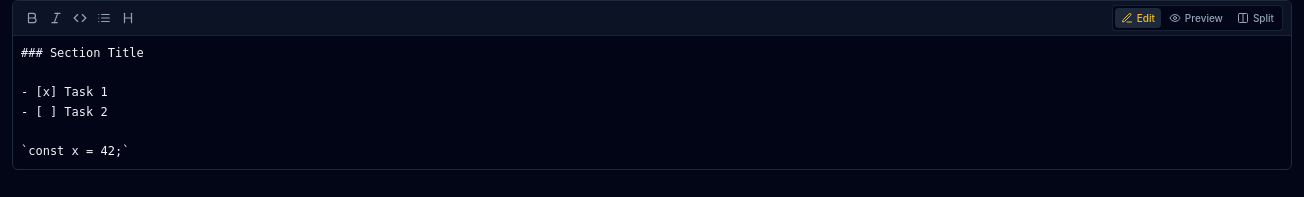
Test case: Milestone 4 Challenger 2: Adversarial Stress Test Suite › Markdown Input Isolation & Keyboard Shortcut Bypass › safely switches between Edit, Preview, and Split modes without losing content or throwing
// Switch to Preview
Click the button with test id "md-mode-preview".
click(1196, 18)  # box [1163,8,1229,28]
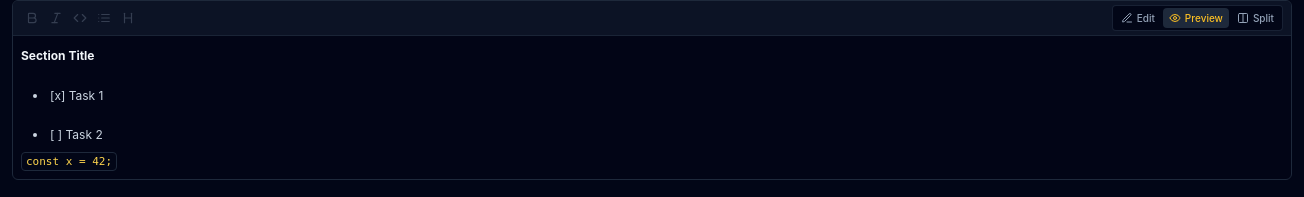
Now the element with test id "markdown-preview" is shown
Now the text box with test id "note-textarea-ann-modes-1" is gone
// Click preview to return to edit mode
Click the element with test id "markdown-preview".
click(58, 56)  # box [21,48,117,171]
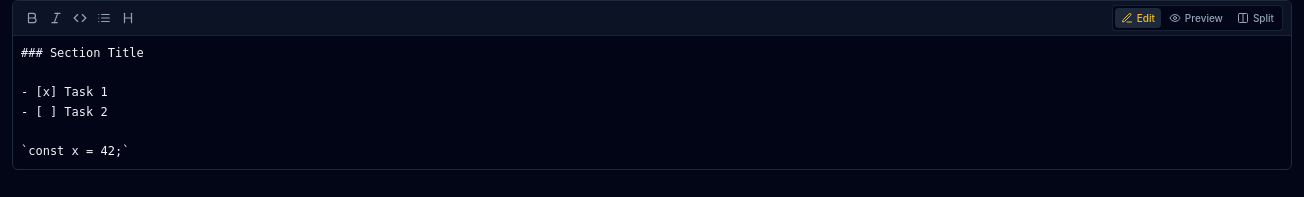
Now the text box with test id "note-textarea-ann-modes-1" is shown
// Switch to Split mode
Click the button with test id "md-mode-split".
click(1255, 18)  # box [1231,8,1280,28]
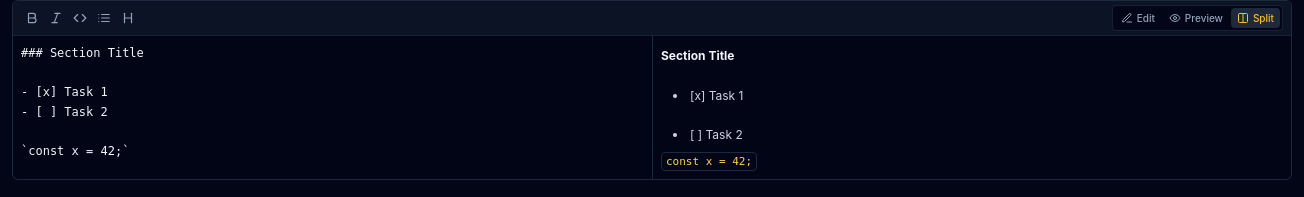
Now the text box with test id "note-textarea-ann-modes-1" is shown, box [13,36,652,179]
Now the element with test id "markdown-preview" is shown, box [652,36,1291,179]
